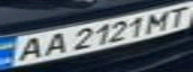1: (90, 20, 115, 47), (124, 14, 151, 38)
2: (69, 25, 97, 52), (109, 17, 133, 44)
A: (6, 34, 51, 63), (36, 30, 72, 57)
M: (142, 8, 178, 34)
T: (157, 3, 193, 28)
